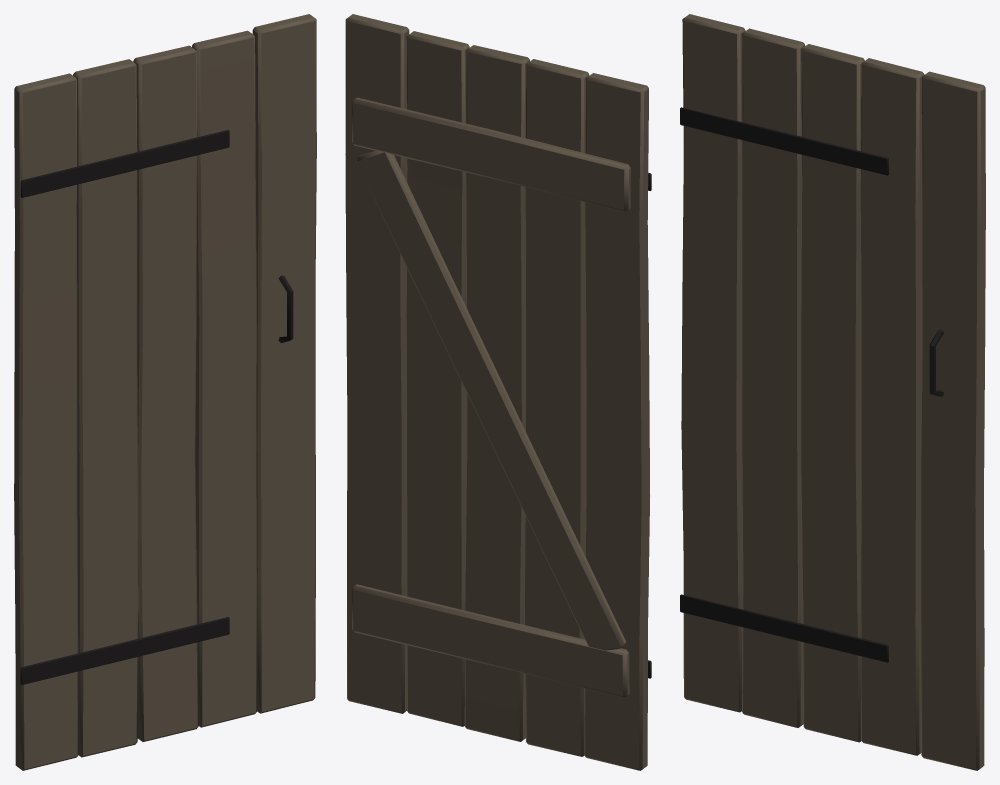
Rendered from tuer_alt.glb.
The picture shows the model from 3 angles, left to right: view 1: azimuth 30°, elevation 25°; view 2: azimuth 150°, elevation 25°; view 3: azimuth 330°, elevation 25°; orthographic projection.
Visible parts, largest first — view 1: tuer_alt; view 2: tuer_alt; view 3: tuer_alt.
Boxes of the visible parts, x1,y1,x2,y2 form: tuer_alt: (14,14,316,770); tuer_alt: (345,14,651,770); tuer_alt: (680,14,985,770).
Size of the model in its own units: 0.8023 by 1.75 by 0.111.
